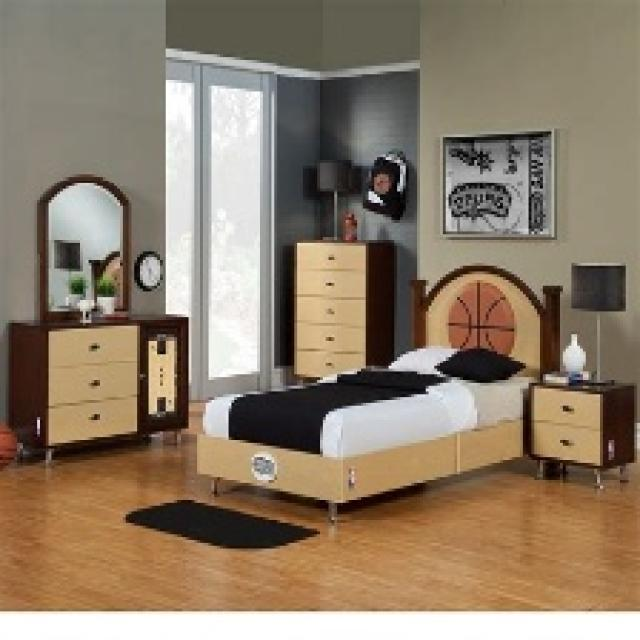Bed: (194, 263, 560, 523)
